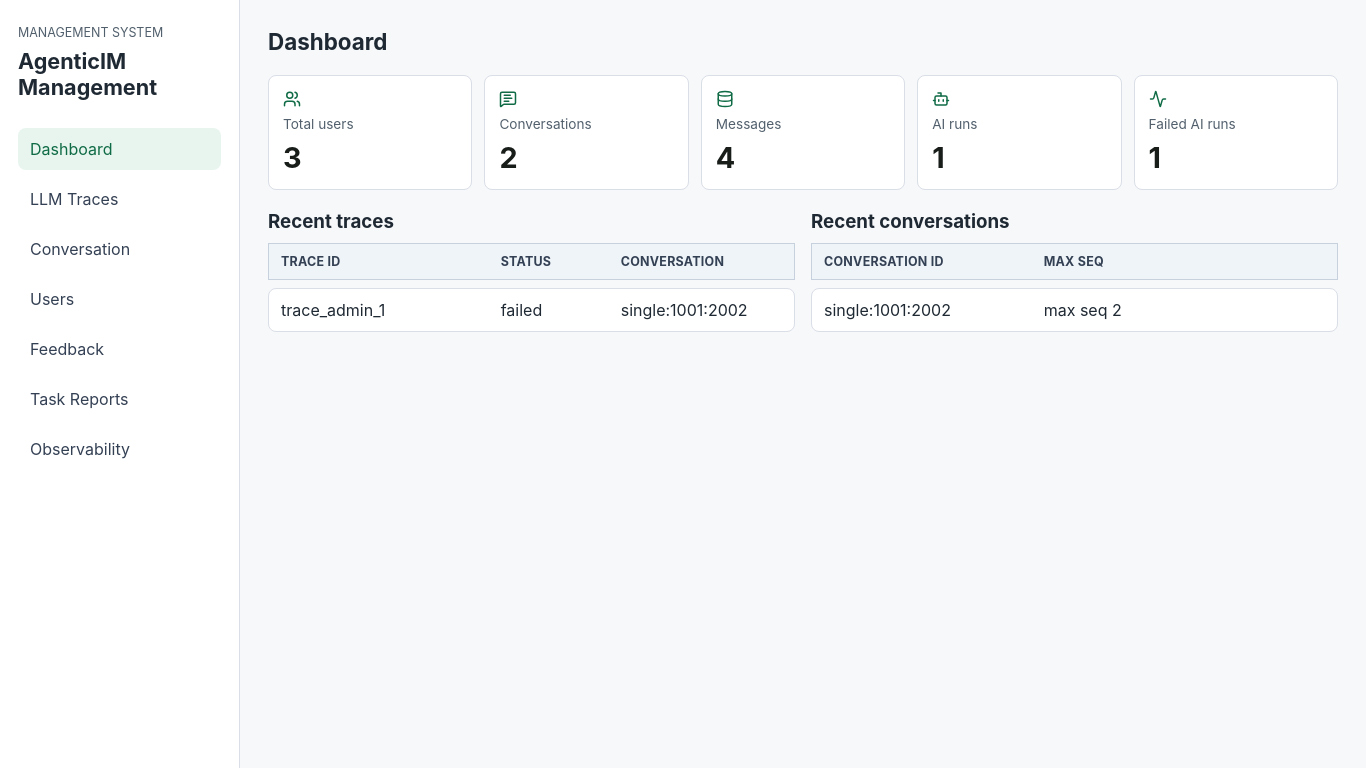
Test case: AdminConsole › renders a default user list and opens the existing user drill-down
Click the button "Users" at [120, 299], box [18,278,221,320]
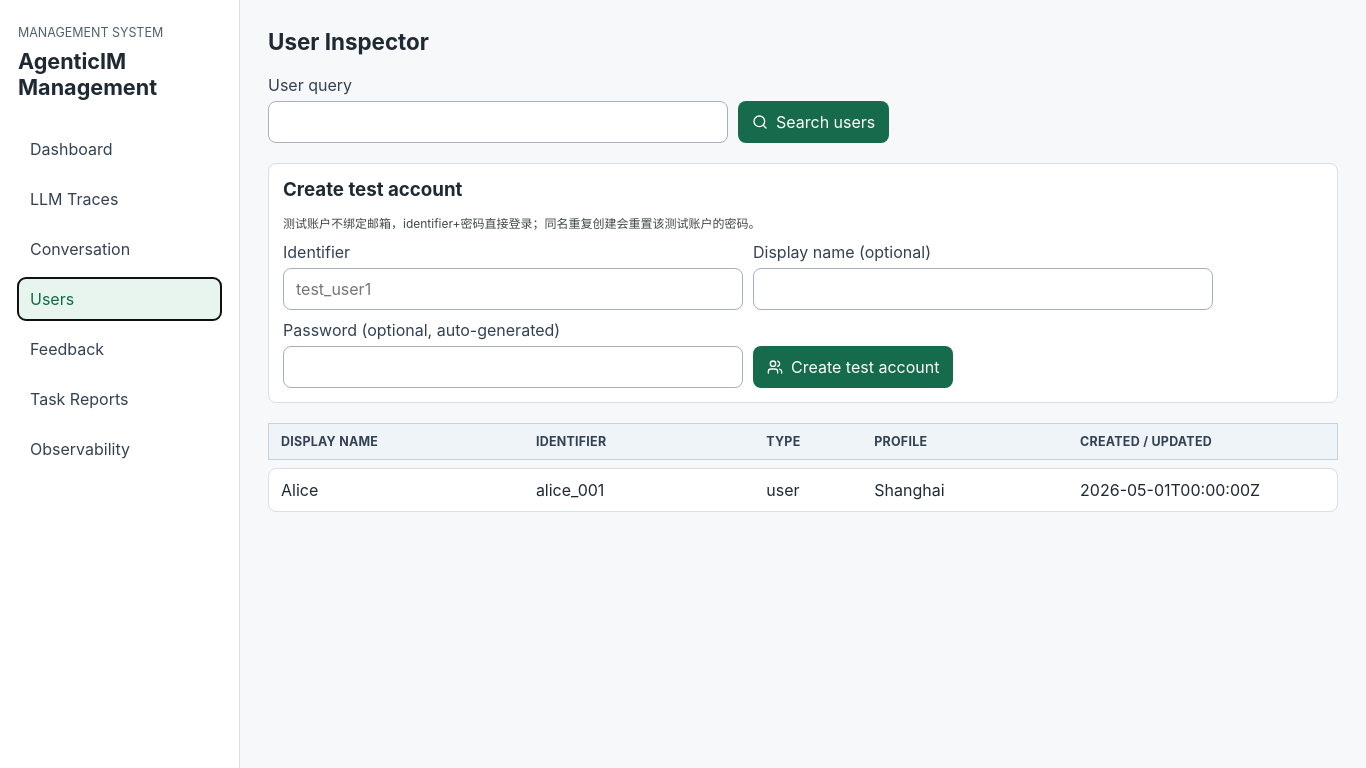
Expected: the text "Alice" is shown, [281,480,318,500]
Expected: the text "alice_001" is shown, [536,480,604,500]
Expected: the text "user" is shown, [766,480,800,500]
Click the button with aria-label "Open alice_001" at [300, 490], box [268,468,1338,512]
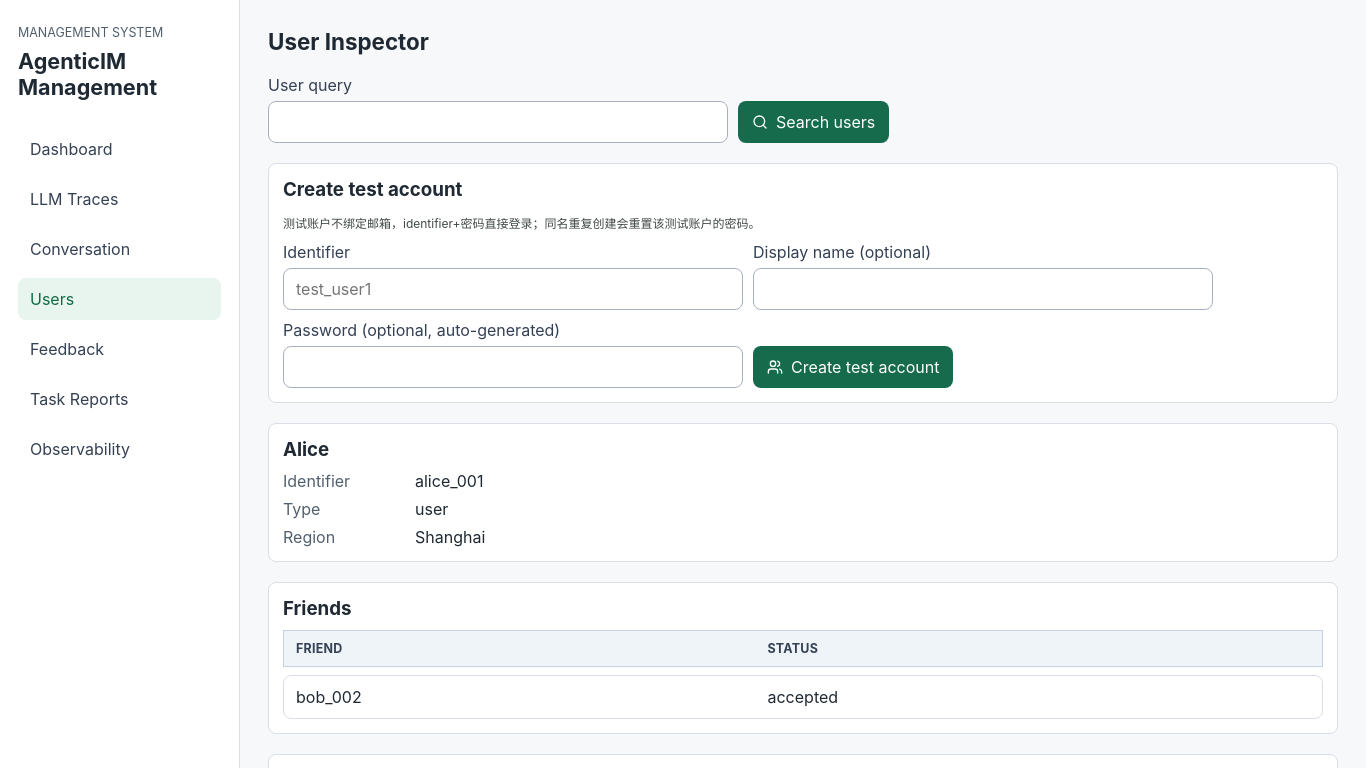
Expected: the heading "Alice" is shown, [283,438,329,461]
Expected: the text "bob_002" is shown, [296,687,362,707]
